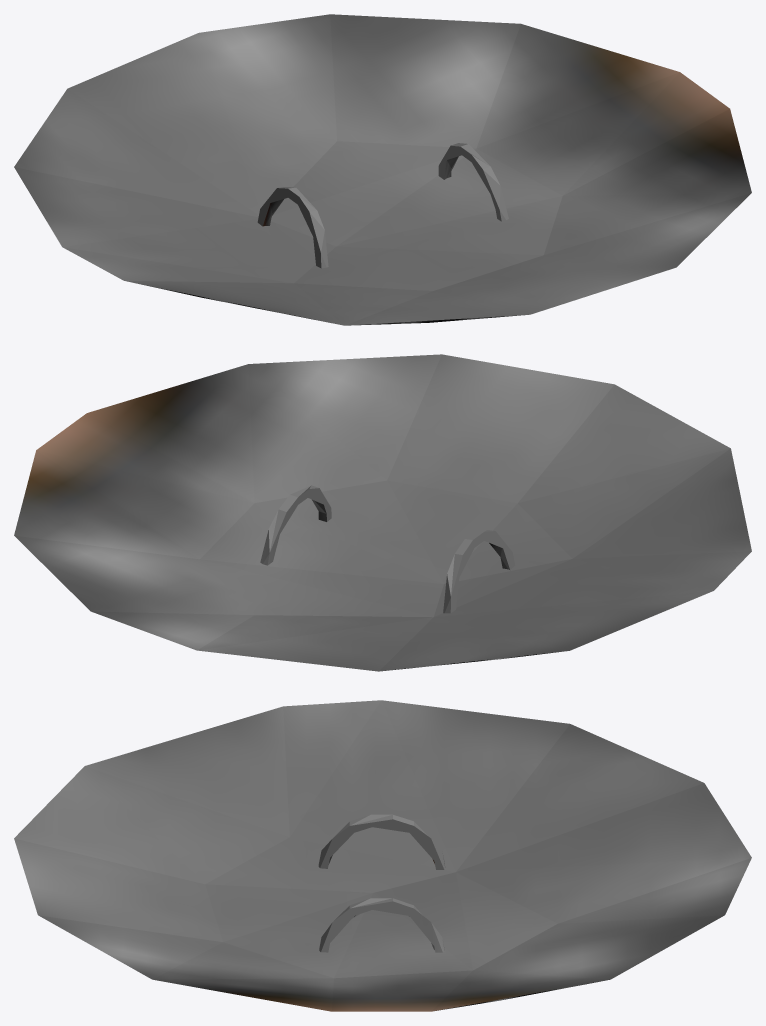
File: bullshield_wtf.obj
The picture shows the model from 3 angles, top to bottom: view 1: azimuth 30°, elevation 25°; view 2: azimuth 150°, elevation 25°; view 3: azimuth 270°, elevation 25°; orthographic projection. The views are drawn at different scales.
Visible parts, largest first — view 1: group1; view 2: group1; view 3: group1.
Part boxes in pixels (left/top/right/bottom): group1: left=14, top=14, right=751, bottom=325; group1: left=14, top=354, right=751, bottom=671; group1: left=14, top=700, right=751, bottom=1011.
Bounding box in the file's own units: 659 × 69.21 × 660.
